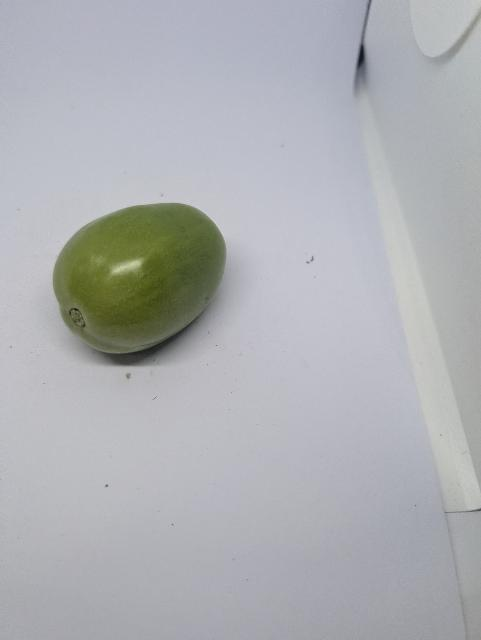green: (49, 189, 249, 377)
